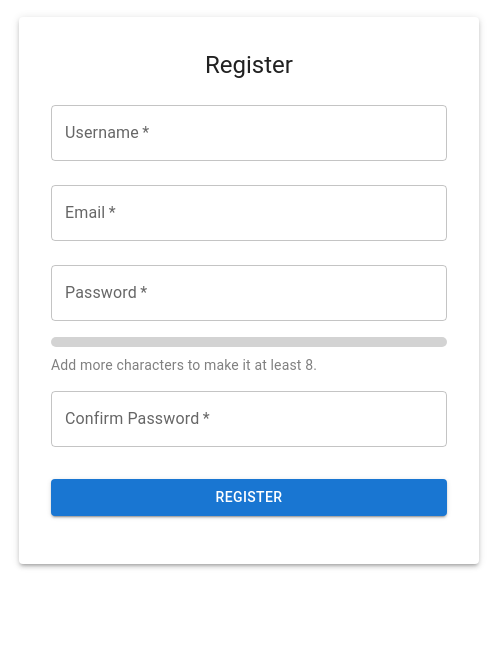
Test: Registration Component Tests › should display a client-side validation error if passwords do not match
The width and height of the screenshot is (499, 658).
Step 1. Type "testuser" into the field labelled "Username *" → [249, 133], box 51,105 -> 447,161
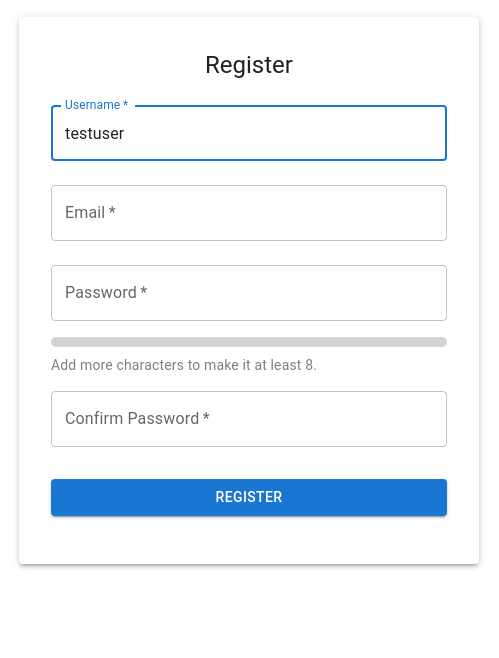
Step 2. Type "testuser@bu.edu" into the field labelled "Email *" → [249, 213], box 51,185 -> 447,241
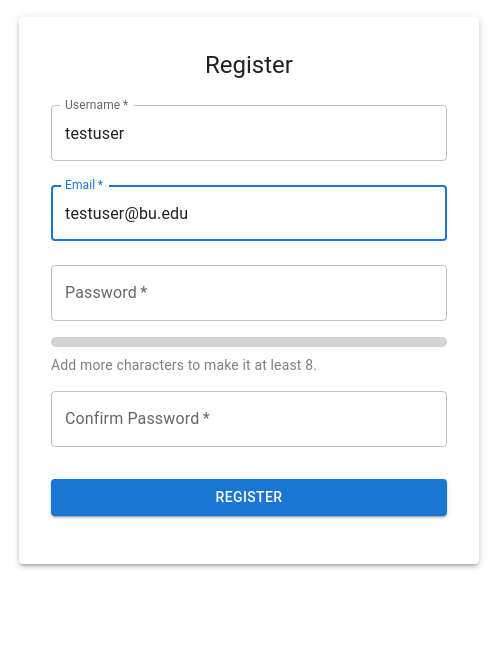
Step 3. Type "Password123!" into the password field labelled "Password *" → [249, 293], box 51,265 -> 447,321
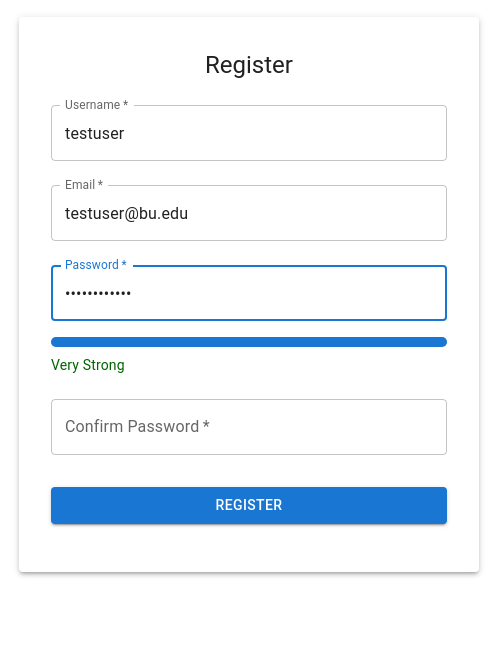
Step 4. Type "DifferentPassword123!" into the password field labelled "Confirm Password *" → [249, 427], box 51,399 -> 447,455
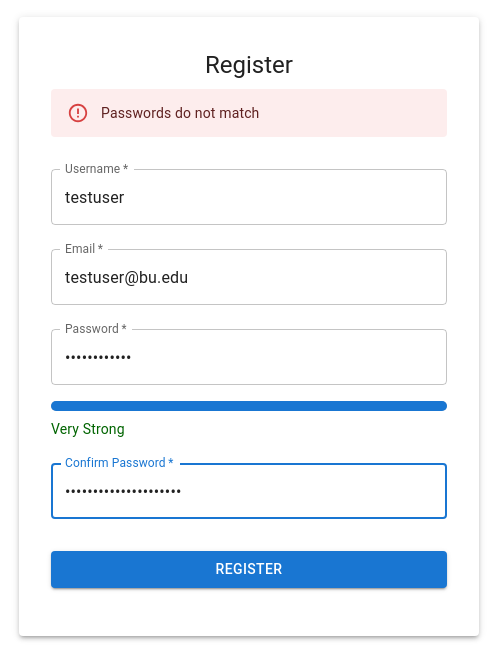
Result: the text "Passwords do not match" is shown at 101,105 -> 260,121
